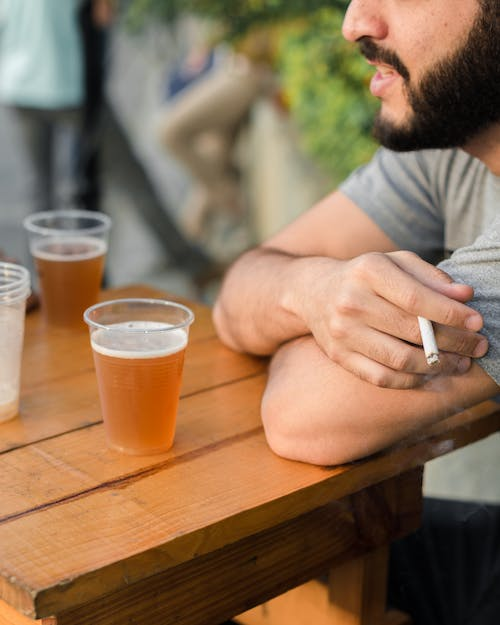alcohol: (80, 294, 197, 460), (23, 205, 115, 332), (0, 255, 29, 429)
cigarette: (416, 313, 444, 370)
